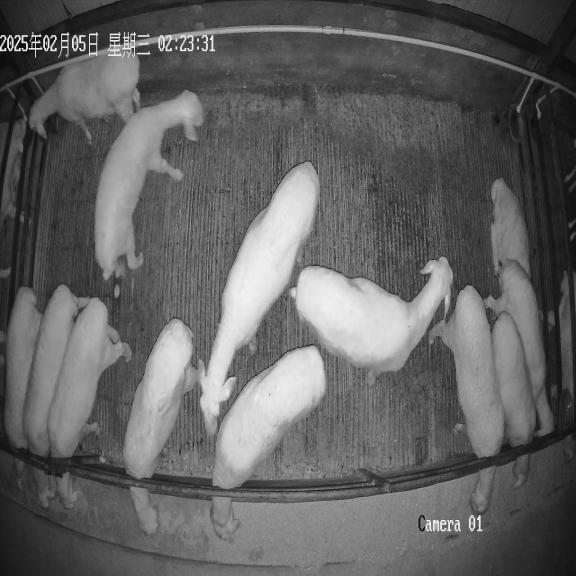drinking: (28, 49, 140, 144)
eating: (210, 345, 326, 540), (123, 318, 204, 535), (48, 298, 131, 509), (429, 285, 504, 514), (22, 285, 90, 508), (492, 311, 536, 488), (4, 286, 41, 479)
lying: (491, 178, 530, 274)
stand: (200, 162, 320, 435), (289, 257, 452, 385), (95, 91, 204, 280), (486, 260, 553, 435)
